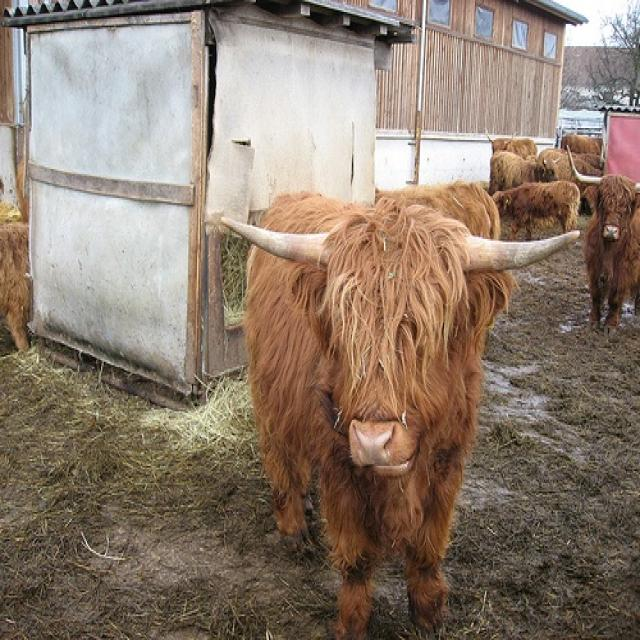cow: (243, 188, 585, 633), (559, 152, 639, 331), (371, 181, 498, 246), (496, 181, 580, 239), (490, 150, 564, 188), (480, 123, 538, 155), (558, 130, 603, 155)
